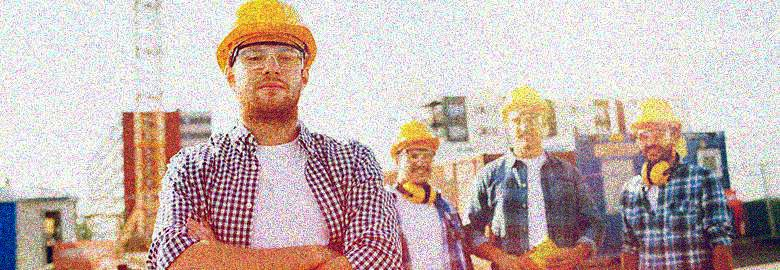helmet: (214, 1, 316, 113), (630, 96, 683, 160), (501, 85, 550, 151), (391, 121, 439, 182)
